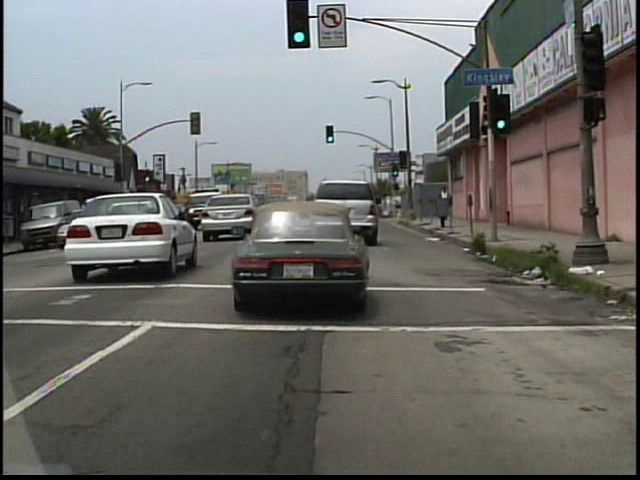person: (439, 185, 452, 220)
